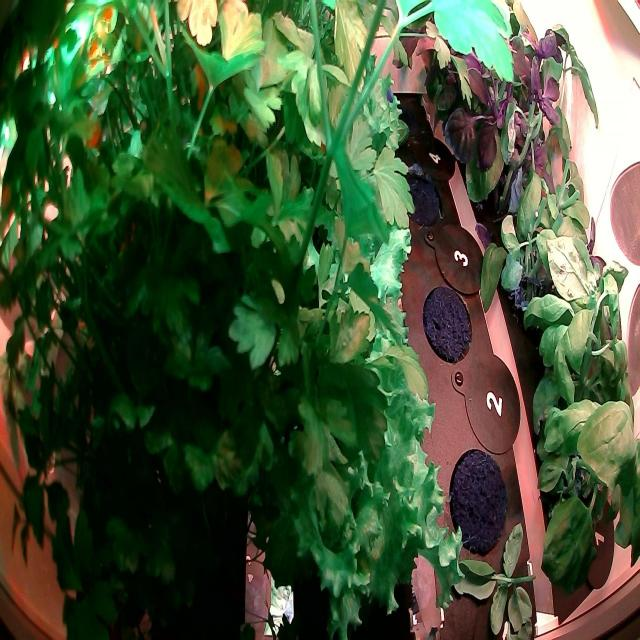pod: (444, 442, 510, 566), (417, 280, 476, 372), (396, 151, 444, 233), (389, 88, 432, 155)
